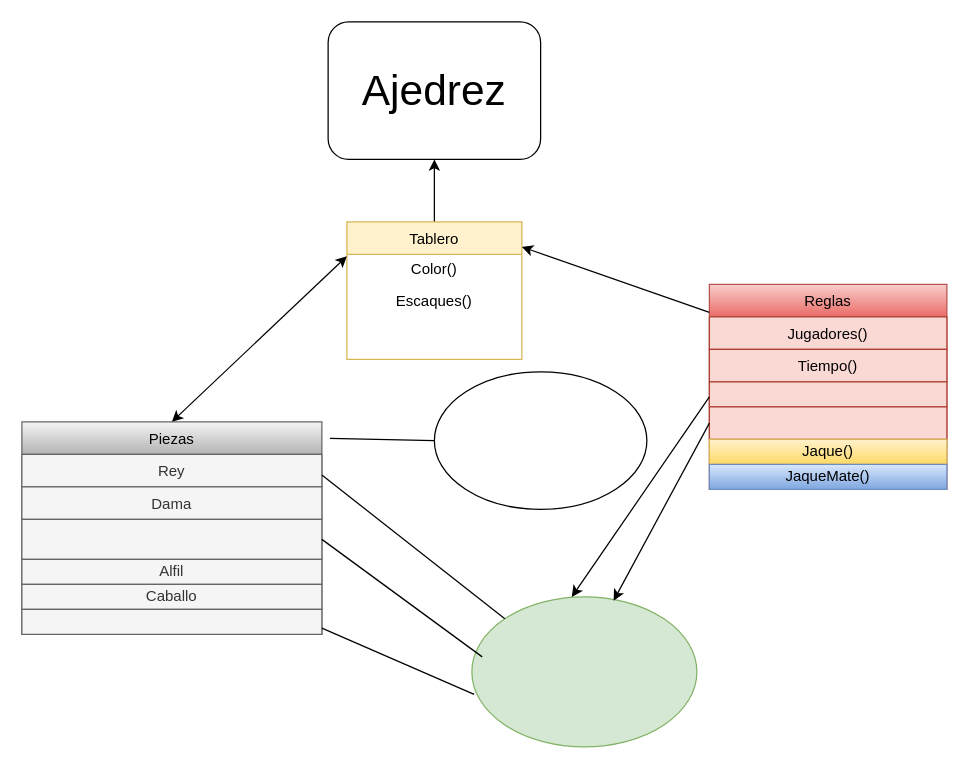
Image size: 969x769. Some labels were removed from this diagram. The centre of each missing label's shape, as x and y in pixels:
"Movimiento_especial()" goes at (584,671).
"MovimientoNormal()" goes at (540,440).
"Peon" goes at (171,621).
"Piezas_iniciales()" goes at (827,394).
"Posición_de_Piezas()" goes at (827,422).
"Torre" goes at (171,538).
